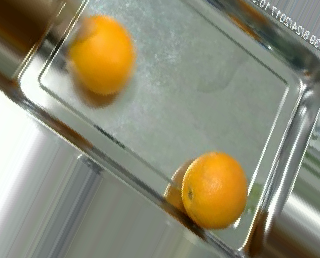Orange: (181, 150, 249, 230), (68, 15, 135, 95)
